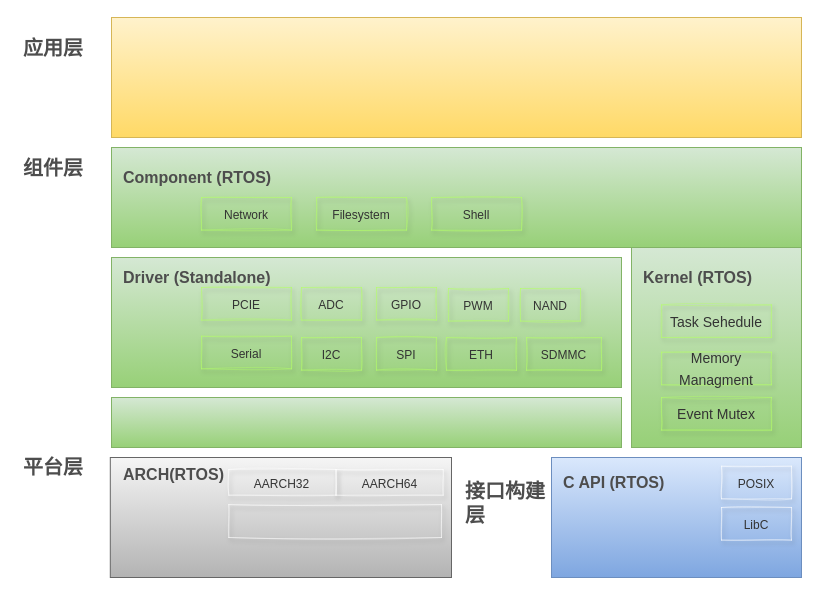
Image size: 819x602. Some labels were removed from this diagram. Each missing label, with the centre of its shape:
Application(RTOS): the point at 456,77
ARM: the point at 336,522
Baremetal Wrapper: the point at 366,422
